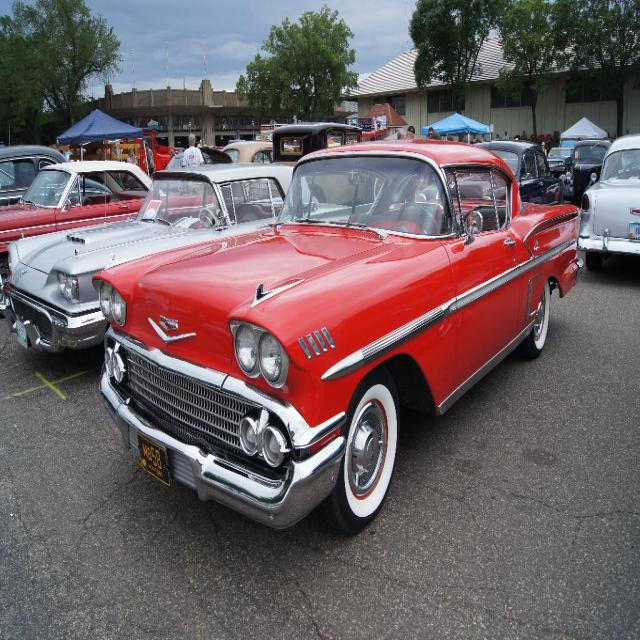other: (91, 137, 581, 539), (0, 163, 347, 350), (0, 162, 211, 310), (577, 136, 639, 265), (0, 141, 112, 202), (472, 141, 560, 206), (204, 141, 290, 191)
